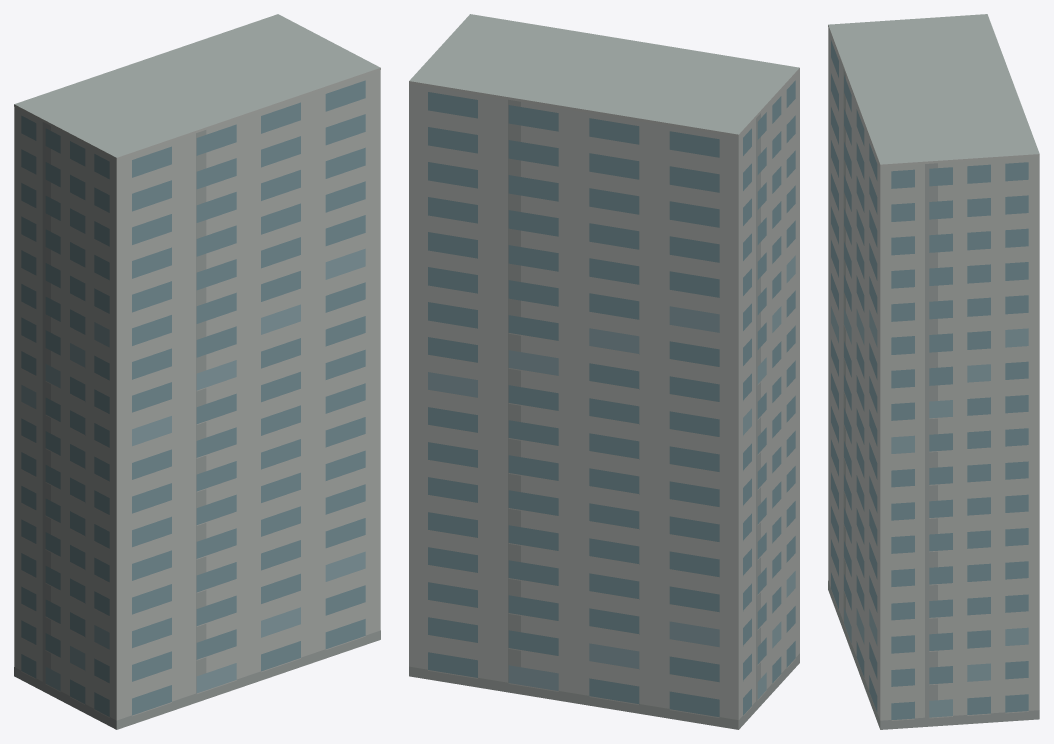
Rendered from residential-027e530c-ffff-4f8e-a987-b65a9951957a.glb.
3 renders of one model, left to right at view 1: azimuth 30°, elevation 25°; view 2: azimuth 150°, elevation 25°; view 3: azimuth 270°, elevation 25°, orthographic. The views are drawn at different scales.
Parts seen in each view (by area): view 1: residential-027e530c-ffff-4f8e-a987-b65a9951957a.tmp; view 2: residential-027e530c-ffff-4f8e-a987-b65a9951957a.tmp; view 3: residential-027e530c-ffff-4f8e-a987-b65a9951957a.tmp.
Part boxes in pixels (<box>): residential-027e530c-ffff-4f8e-a987-b65a9951957a.tmp: <box>14,14,380,729</box>; residential-027e530c-ffff-4f8e-a987-b65a9951957a.tmp: <box>409,14,799,729</box>; residential-027e530c-ffff-4f8e-a987-b65a9951957a.tmp: <box>828,14,1039,729</box>.
Size of the model in its own units: 32.58 by 57 by 19.35.
